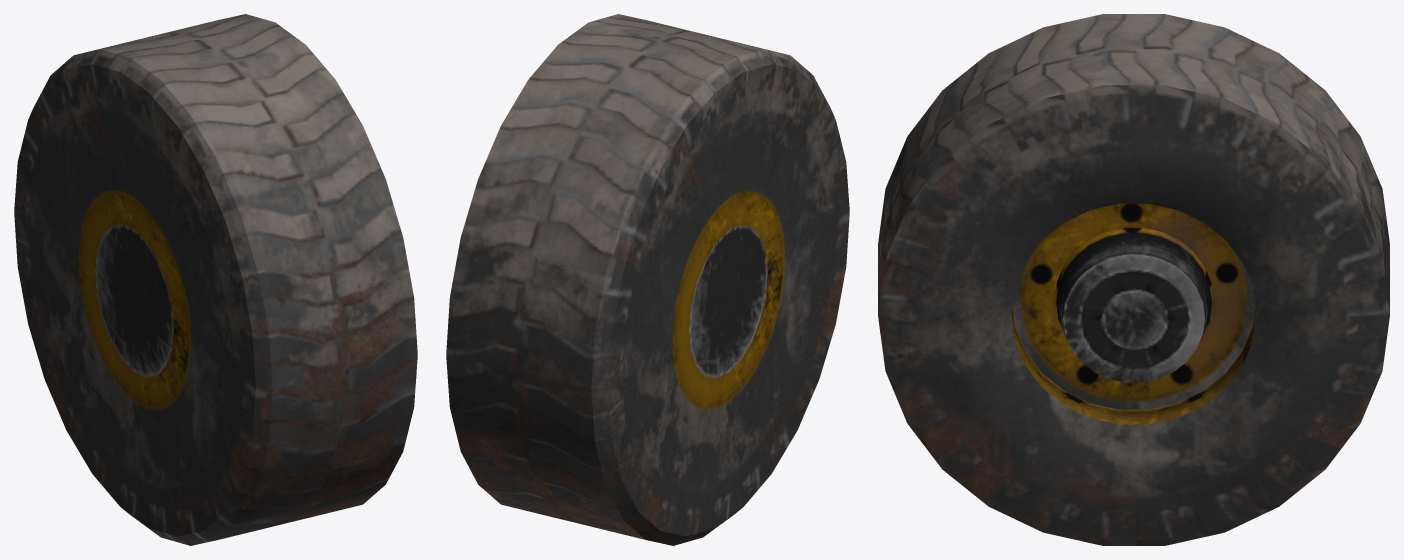
File: Tire FL.fbx
The picture shows the model from 3 angles, left to right: view 1: azimuth 30°, elevation 25°; view 2: azimuth 150°, elevation 25°; view 3: azimuth 270°, elevation 25°; orthographic projection.
Parts seen in each view (by area): view 1: FL Baked; view 2: FL Baked; view 3: FL Baked.
Boxes of the visible parts, x1,y1,x2,y2 form: FL Baked: (14,14,417,545); FL Baked: (446,14,849,545); FL Baked: (878,14,1389,545).
Size of the model in its own units: 31.79 by 84.15 by 83.54.
Materials: 1 (1 with a texture image).
